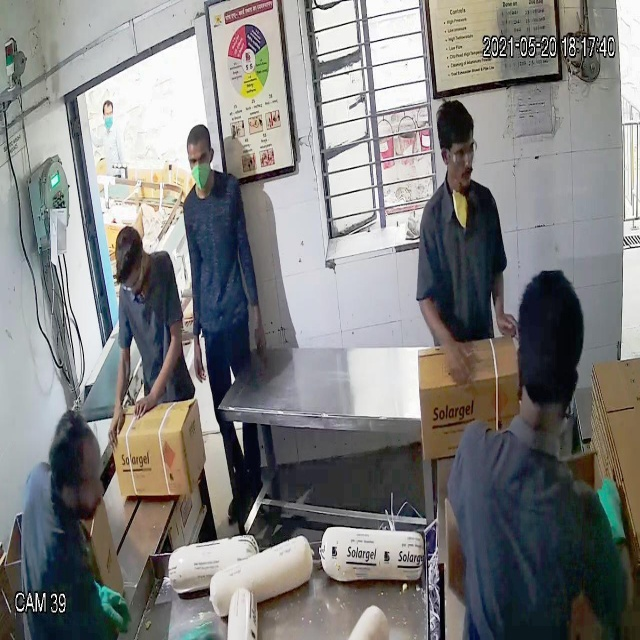Gafas: (434, 133, 479, 165)
Sin_gafas: (185, 147, 213, 169)
